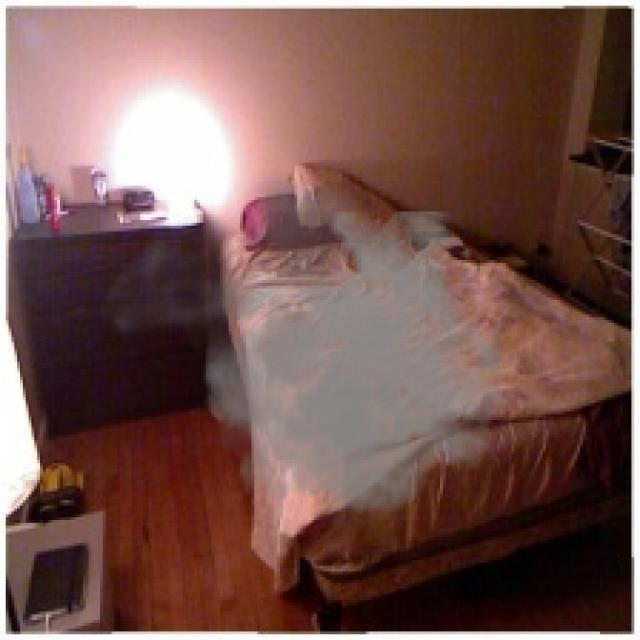Smoke: (94, 165, 514, 540)
